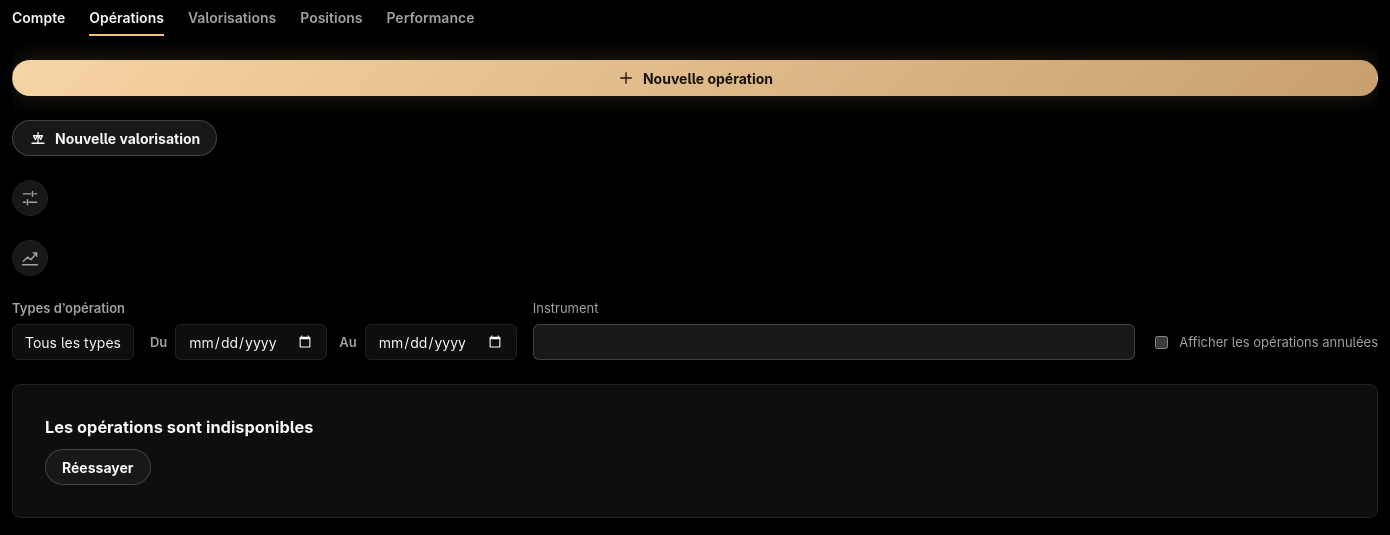
it: PortfolioAccountPage › shows an error state and retries
Click the button "Réessayer": [98, 467] box [45, 449, 150, 485]
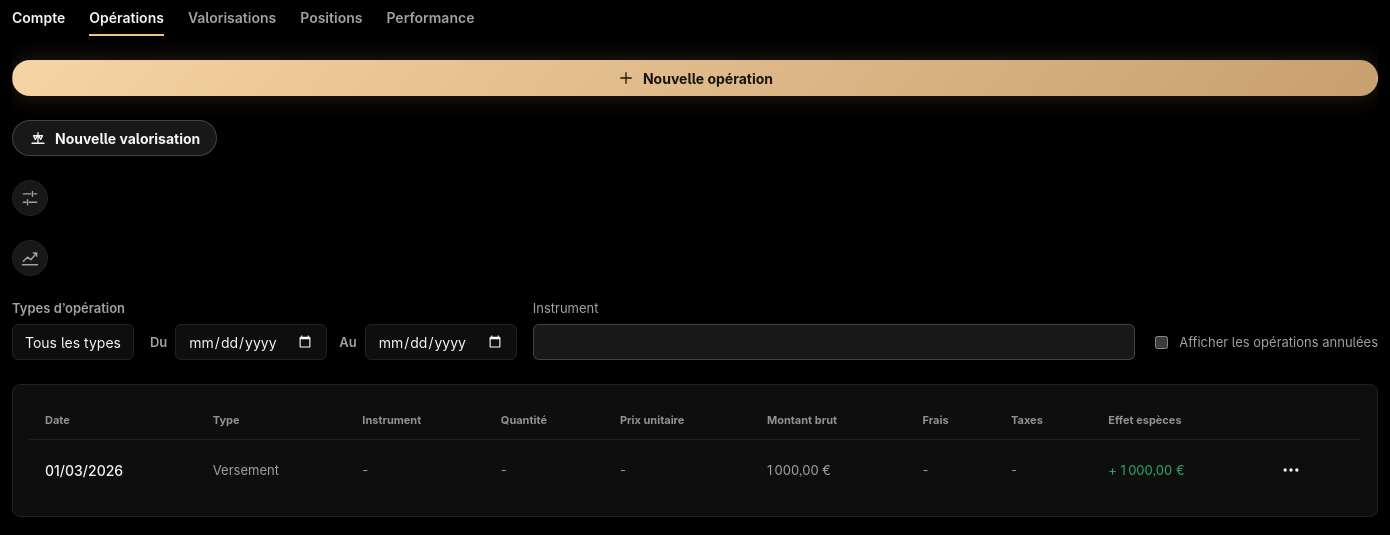
Now the table named "Opérations du portefeuille" is shown, box [29, 401, 1361, 500]
